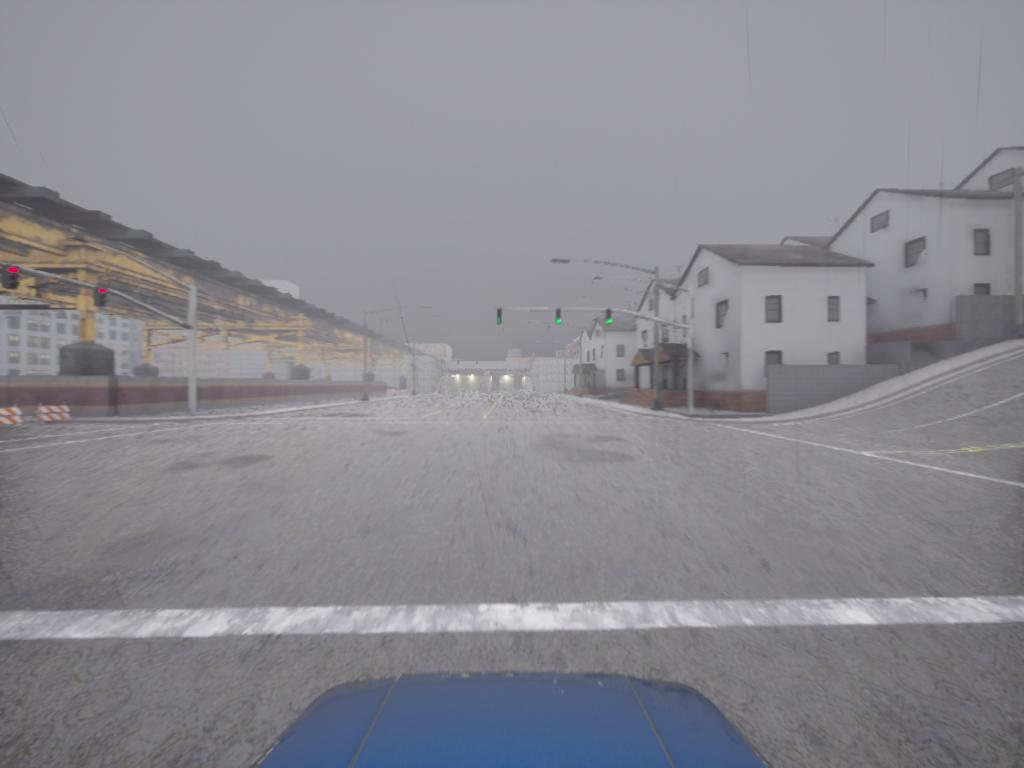traffic_light: (3, 264, 24, 294), (97, 287, 108, 305), (606, 309, 614, 327), (556, 309, 563, 327), (497, 309, 503, 326)
